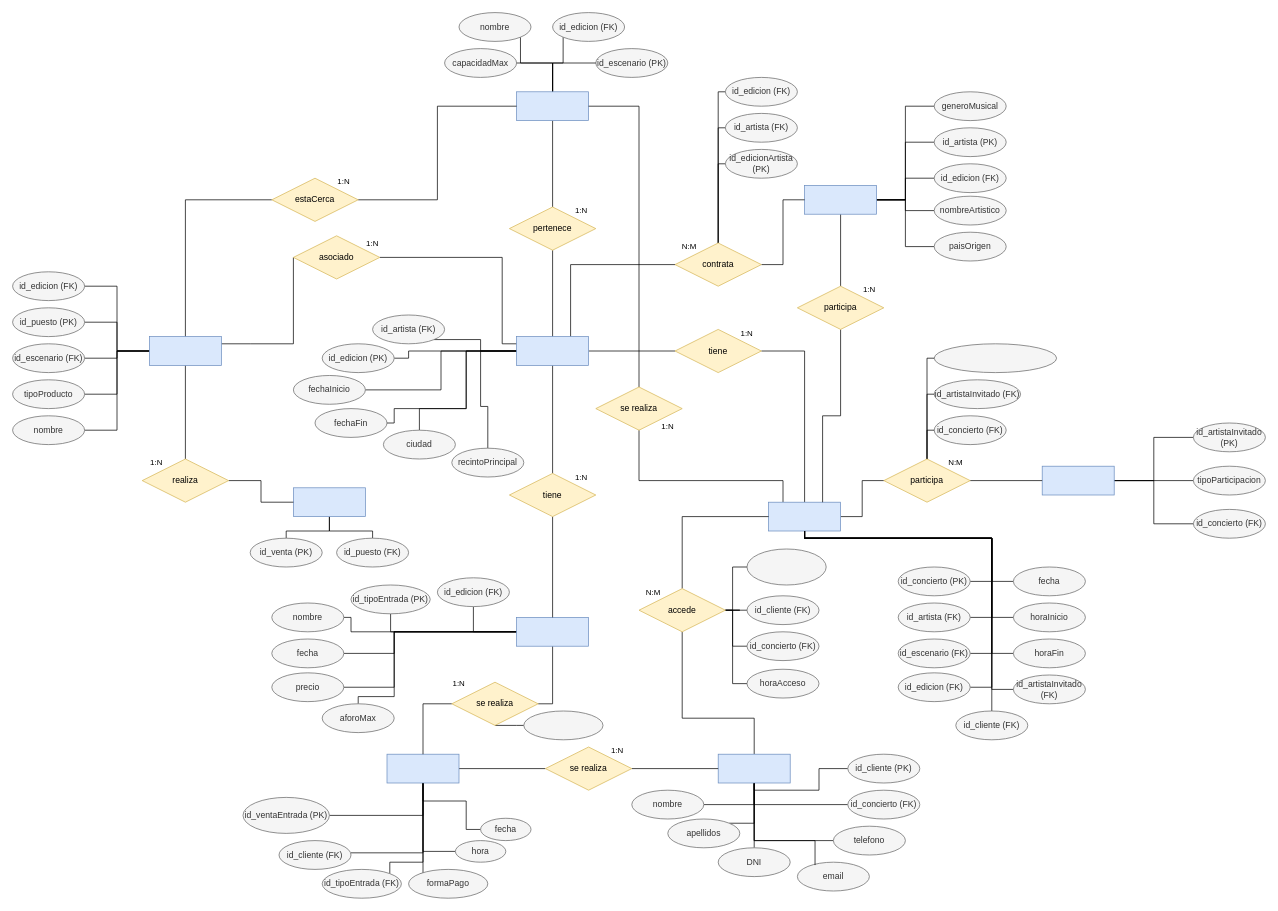
This 1278x911 diagram has some shape labels left out. Here are the shapes that lost their labels. From the top down, the centre of each, then its label:
At pixel 552 106: "ESCENARIO".
At pixel 840 199: "ARTISTA".
At pixel 185 350: "PUESTO".
At pixel 552 350: "EDICIÓN".
At pixel 995 358: "id_conciertoArtistaInvitado(PK)".
At pixel 1077 480: "ARTISTA INVITADO".
At pixel 329 502: "VENTA".
At pixel 804 516: "CONCIERTO".
At pixel 786 566: "id_conciertoCliente (PK)".
At pixel 552 631: "TIPO DE ENTRADA".
At pixel 563 725: "cantidad".
At pixel 422 768: "VENTA ENTRADA".
At pixel 753 768: "CLIENTE".
